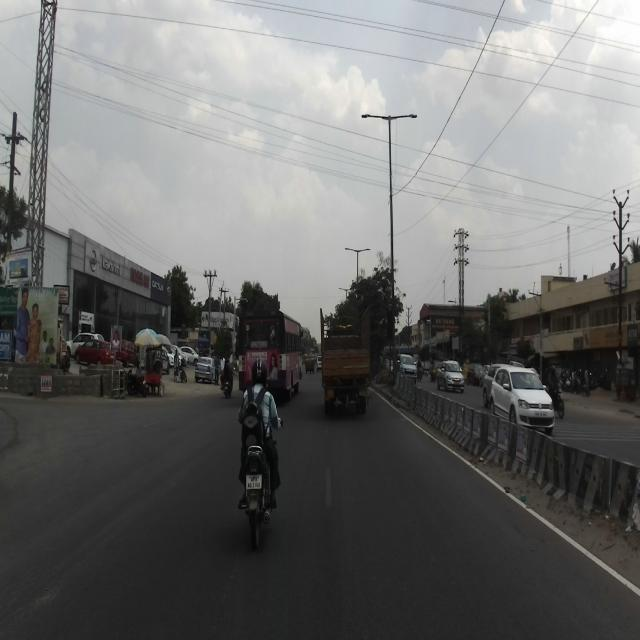bus: (238, 309, 302, 398)
car: (488, 366, 555, 437), (436, 359, 464, 393), (194, 356, 219, 383), (394, 353, 416, 383)
motorcycle: (238, 415, 282, 549)
truck: (320, 304, 372, 413)
